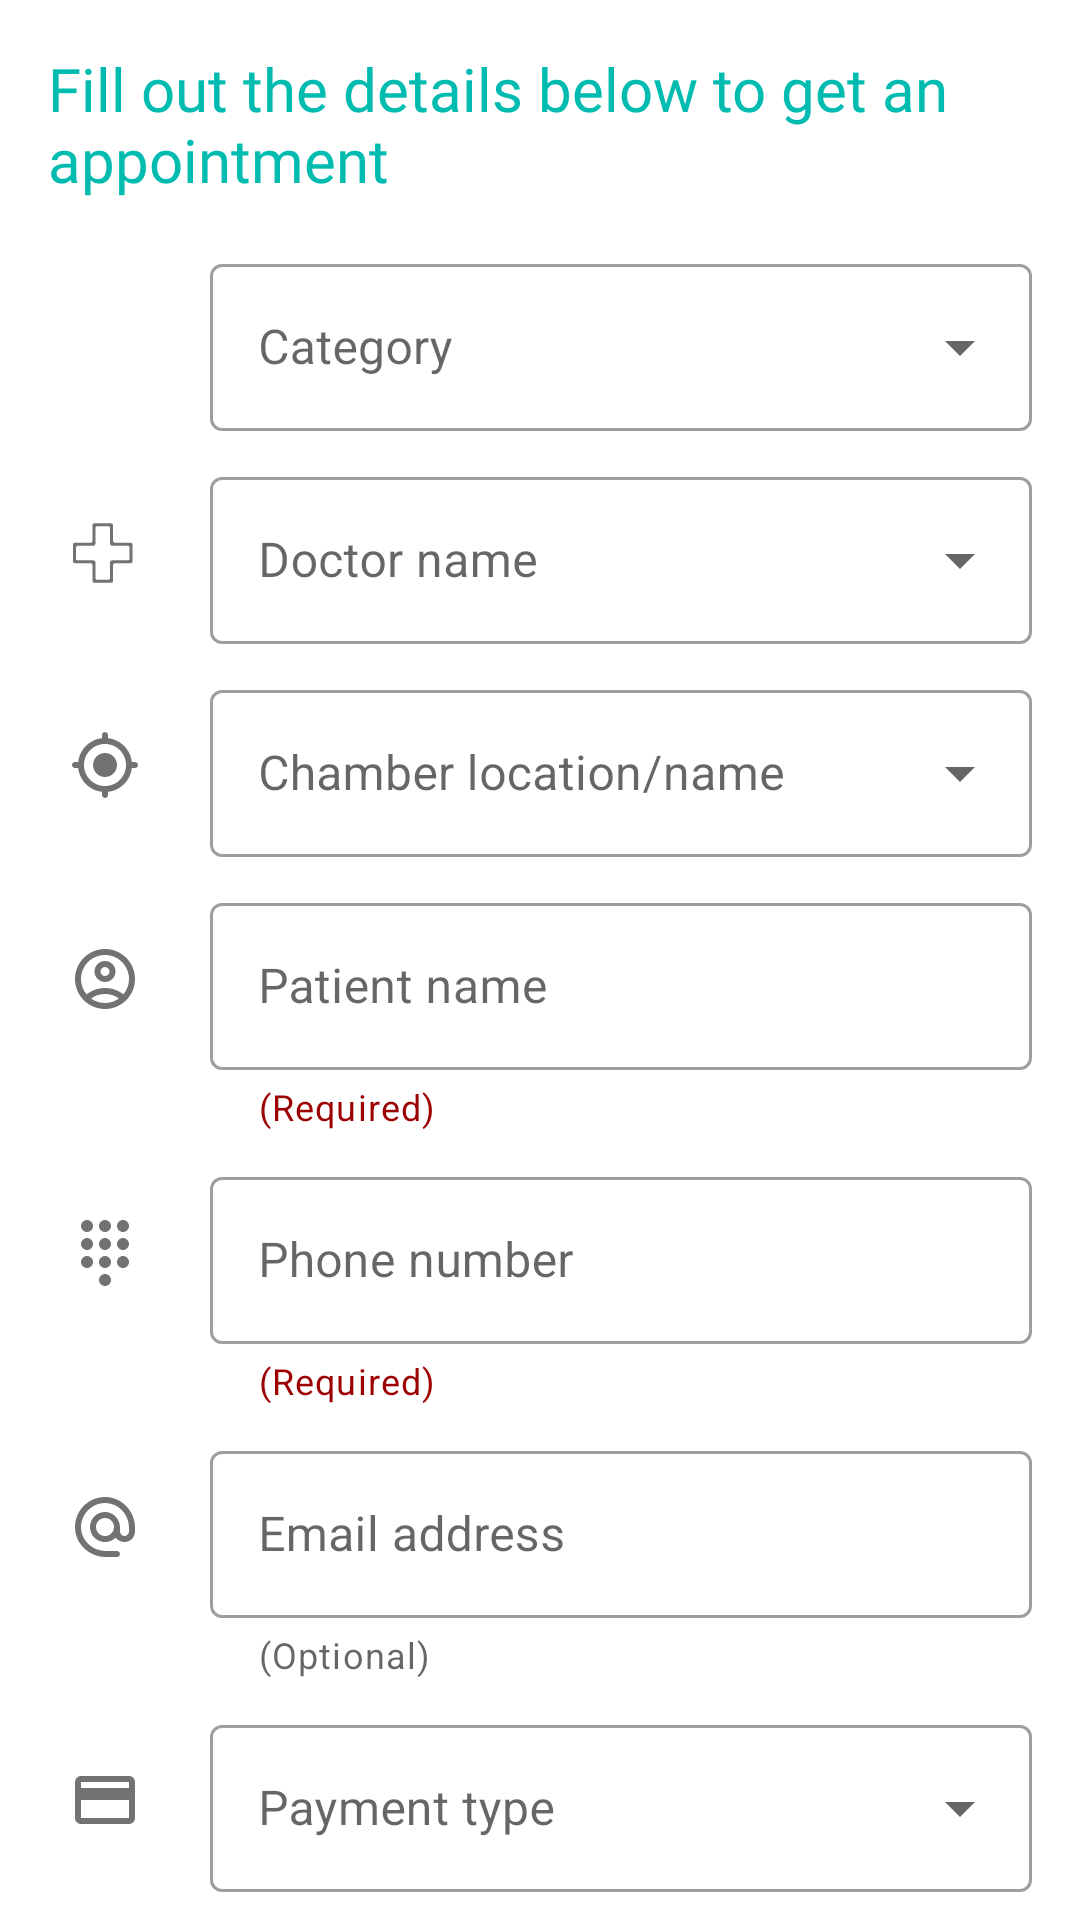

Where to tap for icons on this 1080px x 1920px app screen, as (x=x, y=y):
account: (x=105, y=979)
location round: (x=105, y=765)
phone dialpad: (x=105, y=1253)
